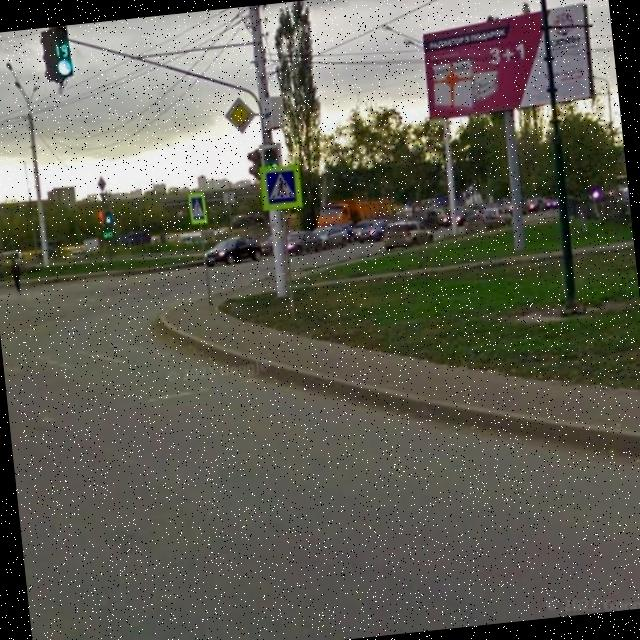Droga z pierwszenstwem: (220, 90, 259, 139)
Przejscie dla pieszych: (256, 161, 304, 212), (186, 190, 210, 226)
